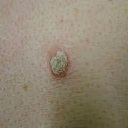Actinic: (46, 49, 74, 77)
